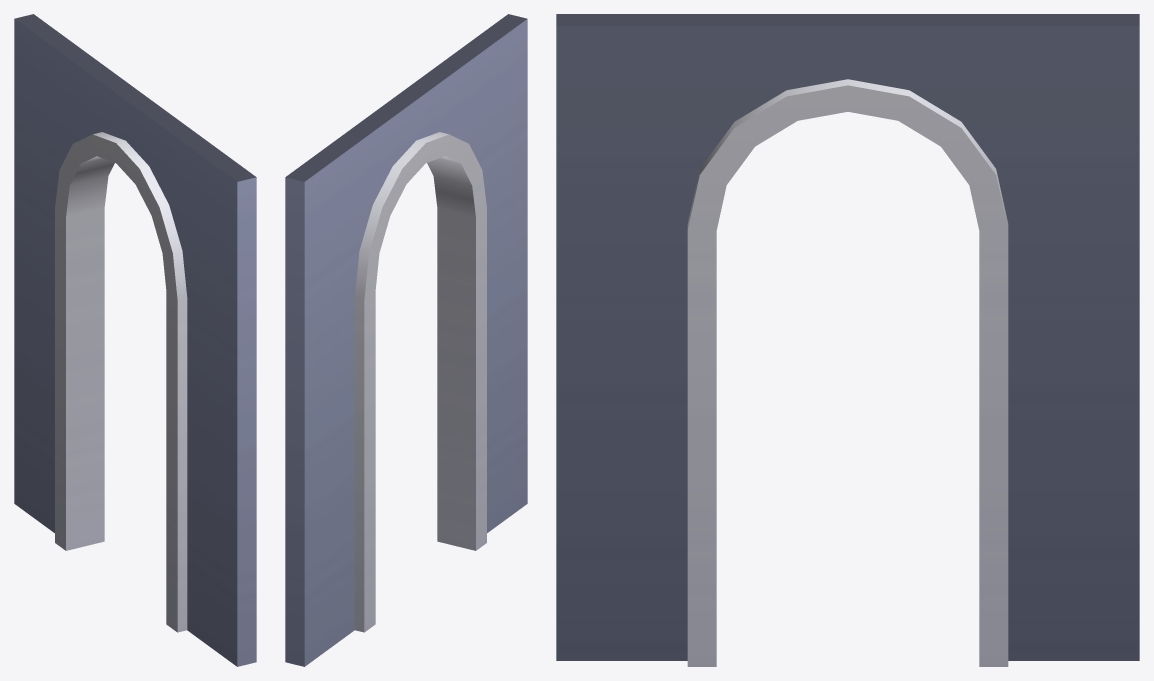
The model's file is dagger_doorway.glb.
The picture shows the model from 3 angles, left to right: view 1: azimuth 30°, elevation 25°; view 2: azimuth 150°, elevation 25°; view 3: azimuth 270°, elevation 25°; orthographic projection. The views are drawn at different scales.
Visible parts, largest first — view 1: wall-doorway-round; view 2: wall-doorway-round; view 3: wall-doorway-round.
Boxes of the visible parts, left/top/right/bottom form: wall-doorway-round: left=14, top=14, right=256, bottom=666; wall-doorway-round: left=285, top=14, right=527, bottom=666; wall-doorway-round: left=556, top=14, right=1139, bottom=666.
Bounding box in the file's own units: 0.2 × 2.4 × 2.
1 material, 1 textured.
